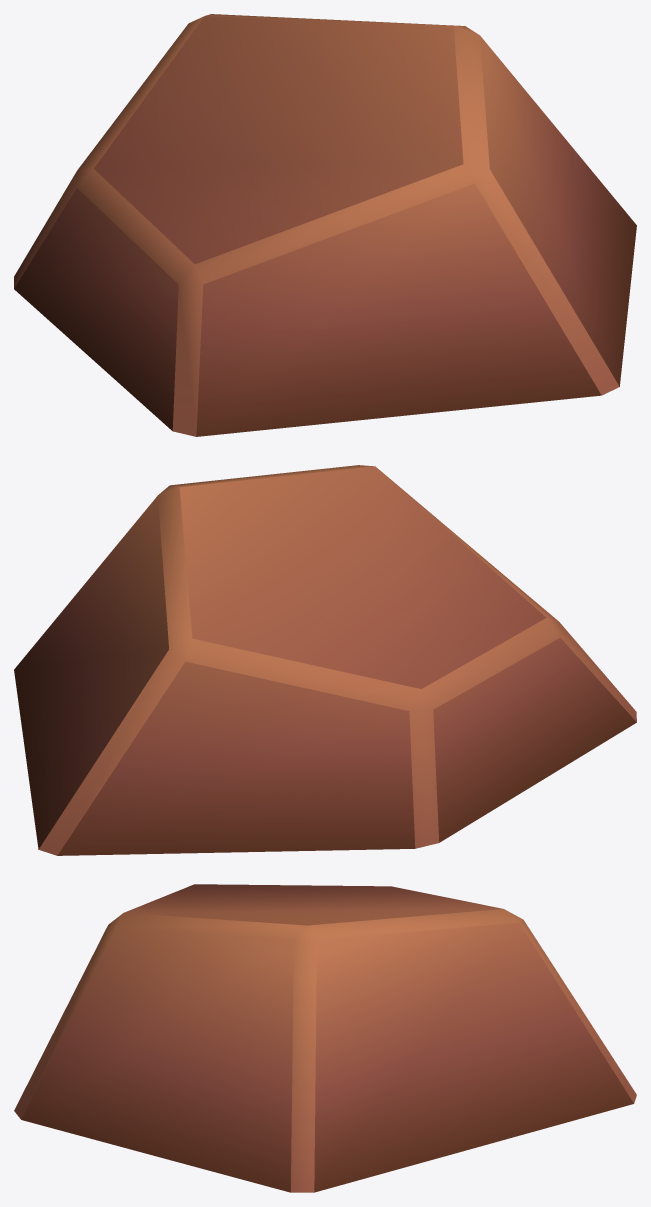
The model's file is Rock-2-5.fbx.
3 views of the same model, one above another, from view 1: azimuth 30°, elevation 25°; view 2: azimuth 150°, elevation 25°; view 3: azimuth 270°, elevation 25° (orthographic). The views are drawn at different scales.
Visible parts, largest first — view 1: Rock-2-5; view 2: Rock-2-5; view 3: Rock-2-5.
Part boxes in pixels (x1,y1,x2,y2): Rock-2-5: (14, 14, 636, 436); Rock-2-5: (14, 465, 636, 855); Rock-2-5: (14, 884, 636, 1192).
Bounding box in the file's own units: 164 × 65.96 × 190.
